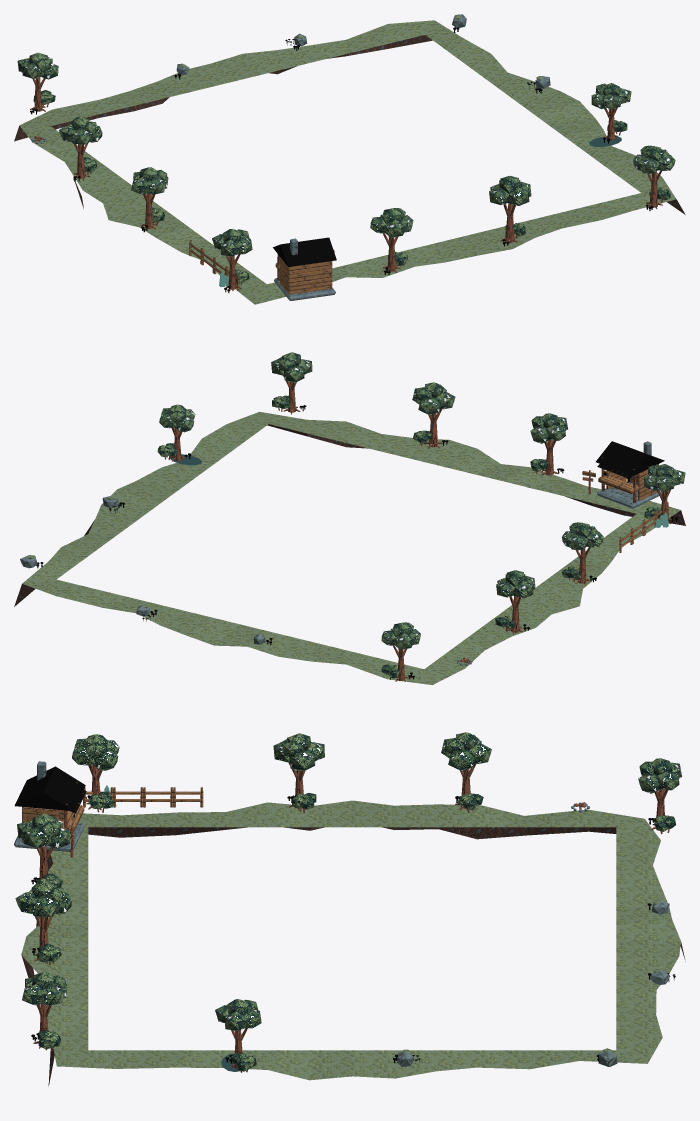
The model's file is entorno_16.fbx.
The picture shows the model from 3 angles, top to bottom: view 1: azimuth 30°, elevation 25°; view 2: azimuth 150°, elevation 25°; view 3: azimuth 270°, elevation 25°; orthographic projection. The views are drawn at different scales.
Parts seen in each view (by area): view 1: bosque_entorno_16; view 2: bosque_entorno_16; view 3: bosque_entorno_16.
Part boxes in pixels (box(x1,y1,x2,y2)): bosque_entorno_16: box(14, 14, 685, 304); bosque_entorno_16: box(14, 352, 685, 684); bosque_entorno_16: box(14, 732, 685, 1086).
Bounding box in the file's own units: 2059 × 369 × 2062.
Materials: 17 (6 with a texture image).
